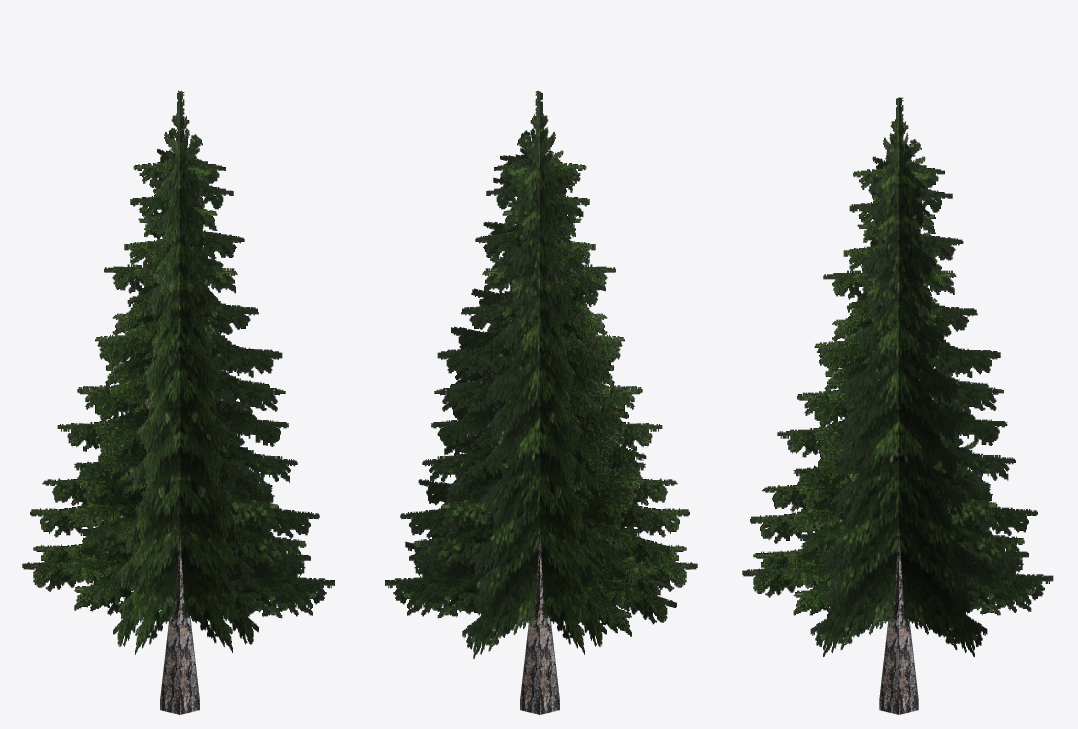
The model's file is tree.gltf.
3 views of the same model, side by side, from view 1: azimuth 30°, elevation 25°; view 2: azimuth 150°, elevation 25°; view 3: azimuth 270°, elevation 25° (orthographic).
Visible parts, largest first — view 1: leaf (×3), cone; view 2: leaf (×4), cone; view 3: leaf (×3), cone.
Boxes of the visible parts, x1=… form: leaf (×3): x1=22, y1=90, x2=334, y2=654; cone: x1=160, y1=527, x2=199, y2=714; leaf (×4): x1=385, y1=90, x2=697, y2=658; cone: x1=520, y1=527, x2=559, y2=714; leaf (×3): x1=742, y1=97, x2=1053, y2=656; cone: x1=879, y1=529, x2=918, y2=714.
Bounding box in the file's own units: 3.12 × 6.5 × 3.13.
2 materials, 2 textured.
